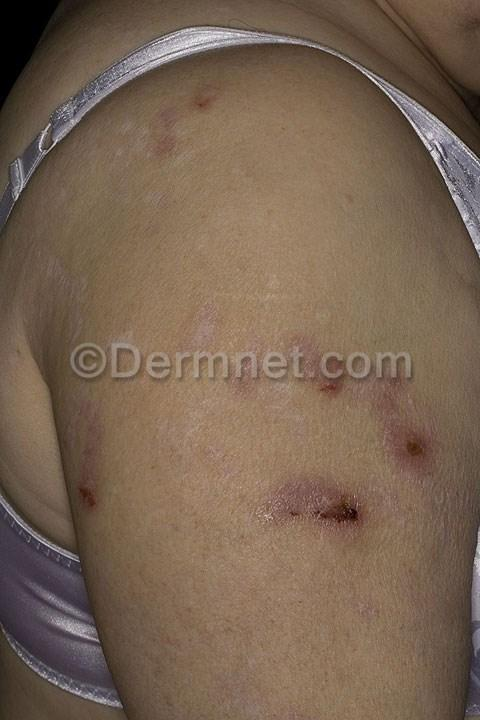Eczema: (234, 466, 390, 549), (135, 70, 231, 168), (200, 327, 261, 419), (372, 417, 442, 484), (357, 348, 427, 415), (288, 351, 352, 418), (336, 576, 400, 633), (67, 459, 121, 523), (64, 400, 118, 456), (271, 310, 321, 365), (317, 166, 364, 217)
